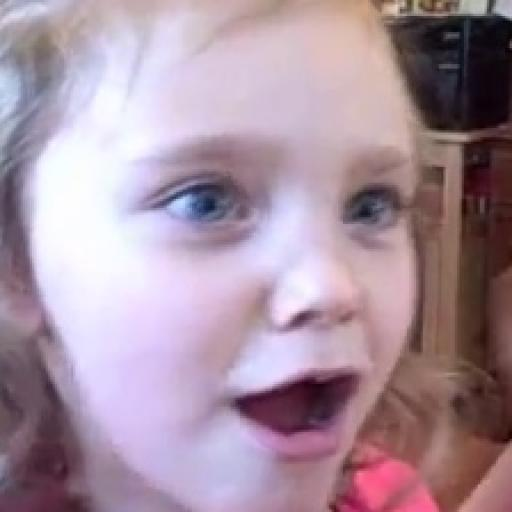Autism: (0, 1, 480, 512)
